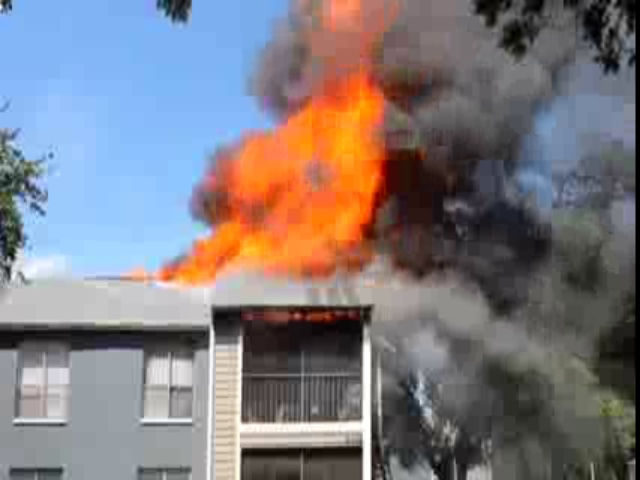fire: (188, 79, 396, 278)
